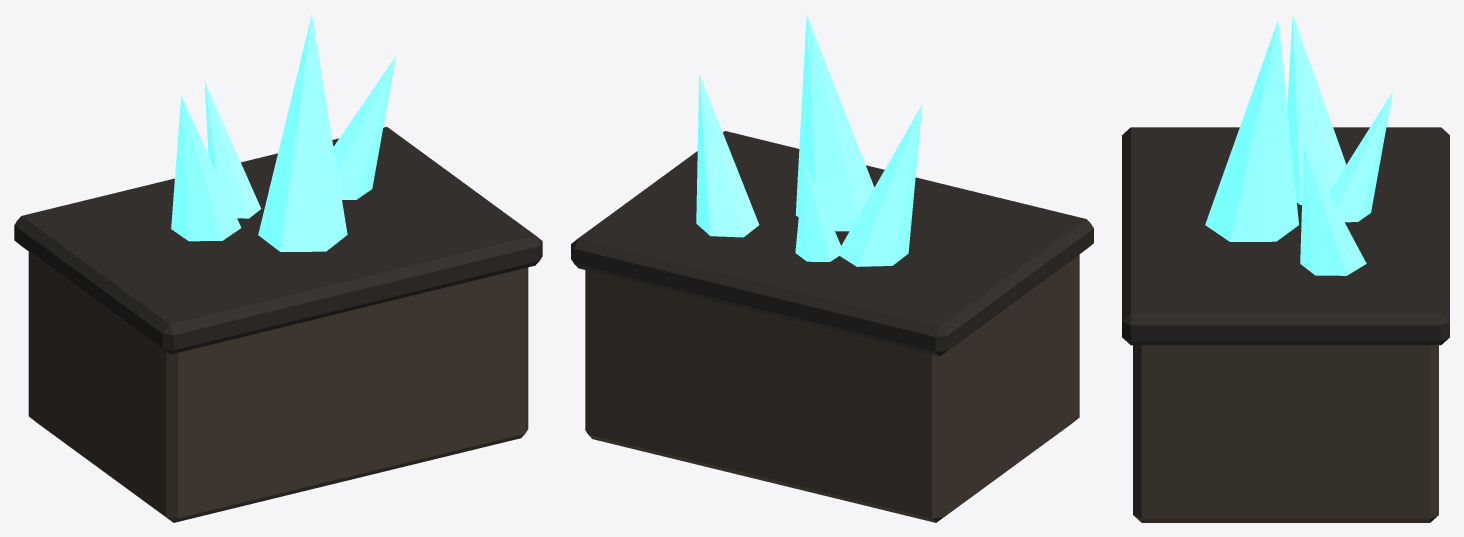
The model's file is crystal_crate.glb.
The picture shows the model from 3 angles, left to right: view 1: azimuth 30°, elevation 25°; view 2: azimuth 150°, elevation 25°; view 3: azimuth 270°, elevation 25°; orthographic projection. The views are drawn at different scales.
Visible parts, largest first — view 1: prop.crystal_crate; view 2: prop.crystal_crate; view 3: prop.crystal_crate.
Part boxes in pixels (x1,y1,x2,y2): prop.crystal_crate: (14,14,542,522); prop.crystal_crate: (571,14,1093,522); prop.crystal_crate: (1122,15,1449,522).
Bounding box in the file's own units: 0.8697 × 0.9 × 0.6212.
